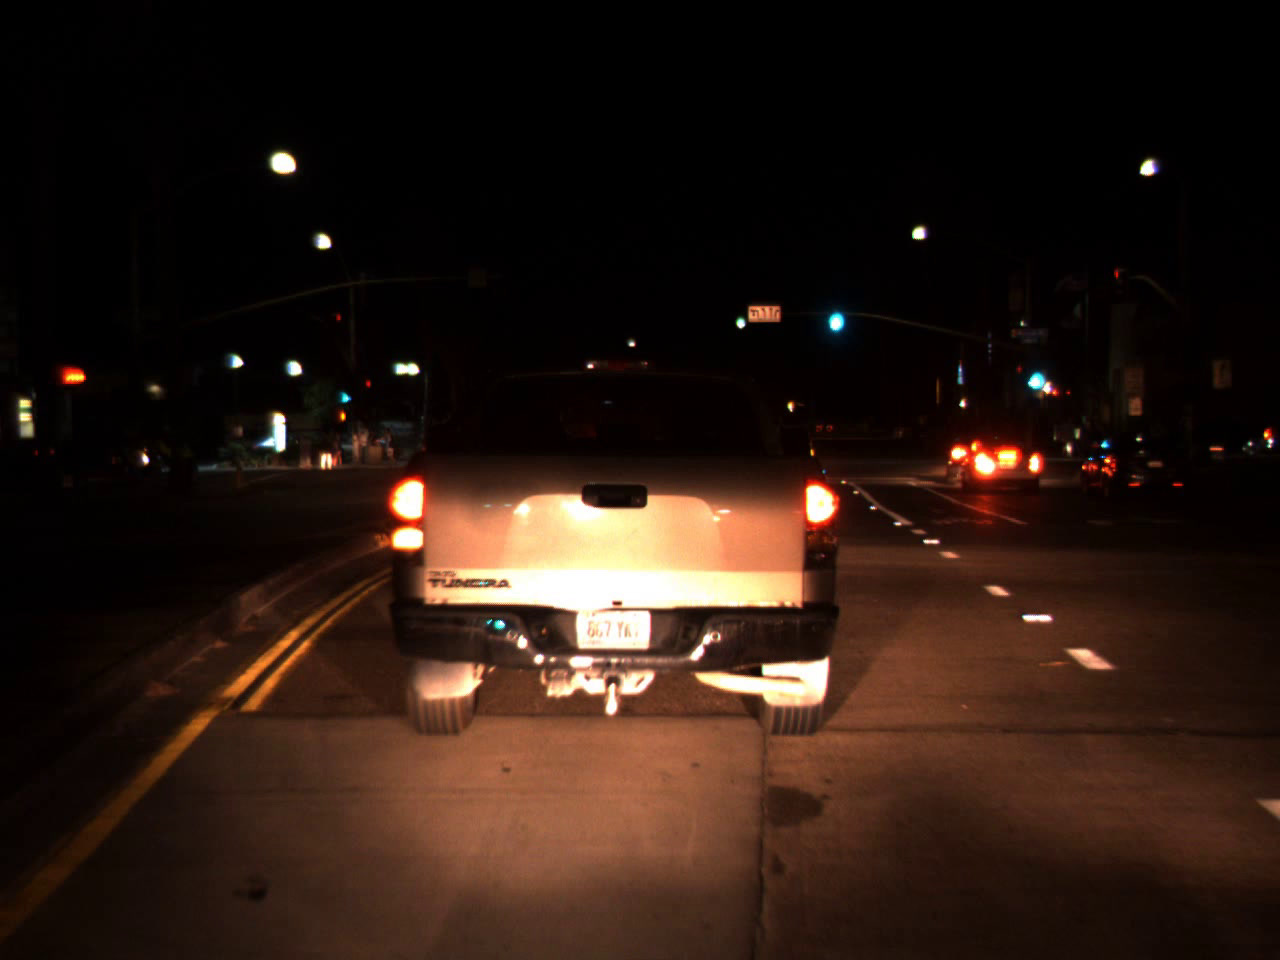go: (823, 290, 846, 338), (1021, 358, 1048, 394), (334, 374, 353, 407), (734, 308, 746, 332)
